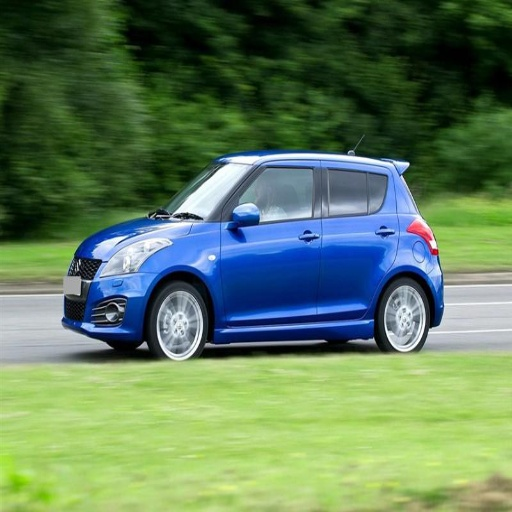back_left_door: (317, 163, 397, 318)
front_bumper: (64, 257, 153, 340)
front_glass: (156, 162, 243, 219)
front_left_door: (220, 163, 319, 324)
